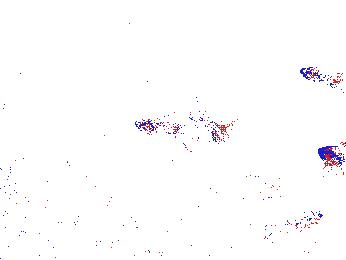X-ray fish: (205, 166, 291, 203)
red belly glassfish: (257, 210, 324, 241)
redtail glassfish: (134, 115, 237, 148), (297, 63, 346, 94), (317, 143, 346, 168)
